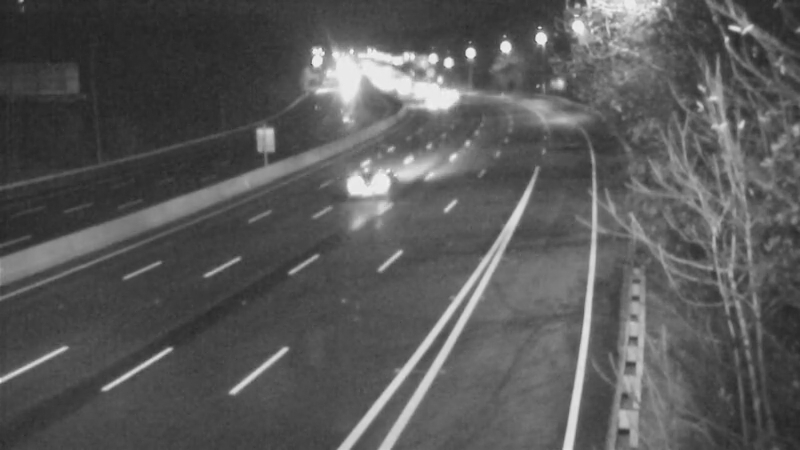vehicle: (329, 146, 409, 226), (404, 64, 454, 114), (424, 68, 474, 118), (410, 79, 460, 129), (395, 73, 445, 123)
